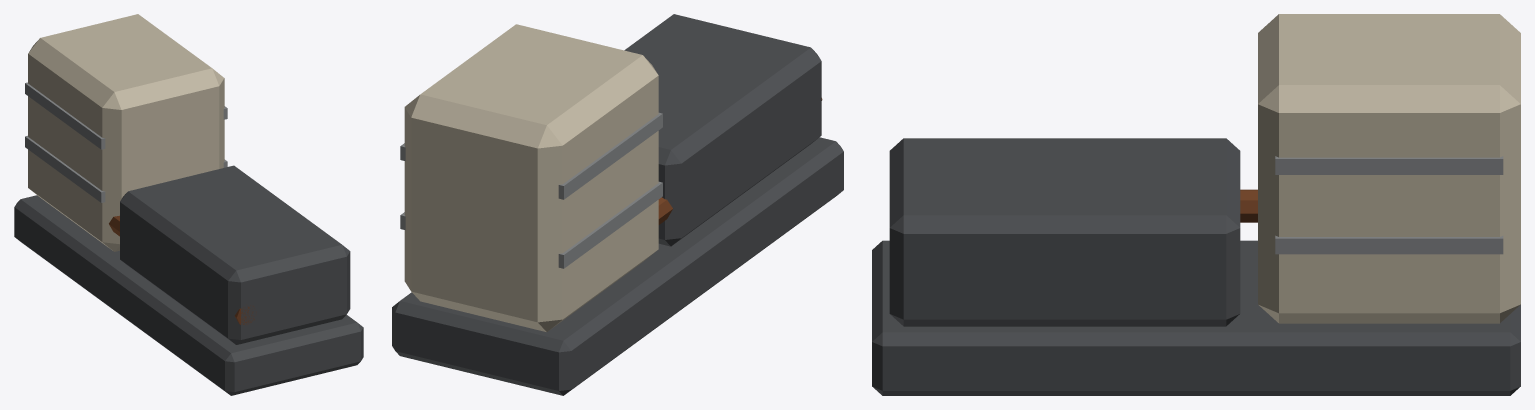
The model's file is cargo-bay-inner-se.glb.
The picture shows the model from 3 angles, left to right: view 1: azimuth 30°, elevation 25°; view 2: azimuth 150°, elevation 25°; view 3: azimuth 270°, elevation 25°; orthographic projection. The views are drawn at different scales.
Visible parts, largest first — view 1: body; view 2: body; view 3: body.
Boxes of the visible parts, <box> form: body: <box>14,14,363,395</box>; body: <box>392,14,843,395</box>; body: <box>872,14,1520,395</box>.
Size of the model in its own units: 0.68 by 0.95 by 1.85.
